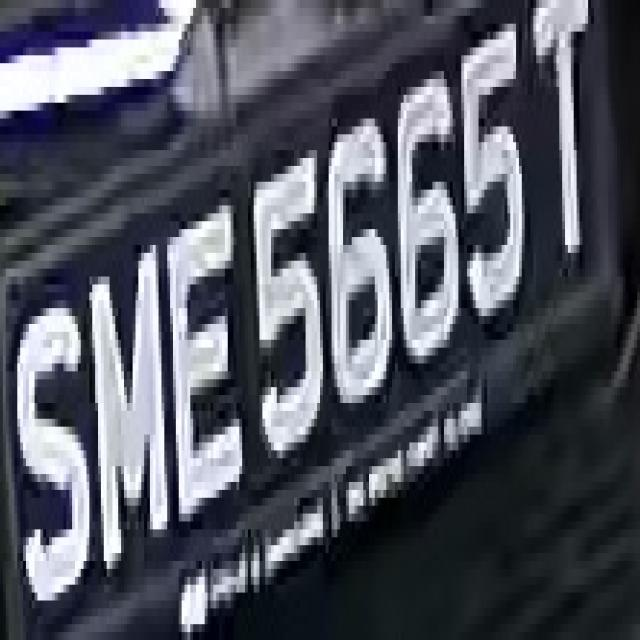5: (452, 16, 530, 340), (251, 134, 326, 466)
6: (317, 110, 395, 427), (386, 71, 464, 379)
E: (161, 198, 254, 522)
M: (81, 237, 173, 593)
S: (14, 277, 92, 632)
T: (525, 8, 605, 269)
